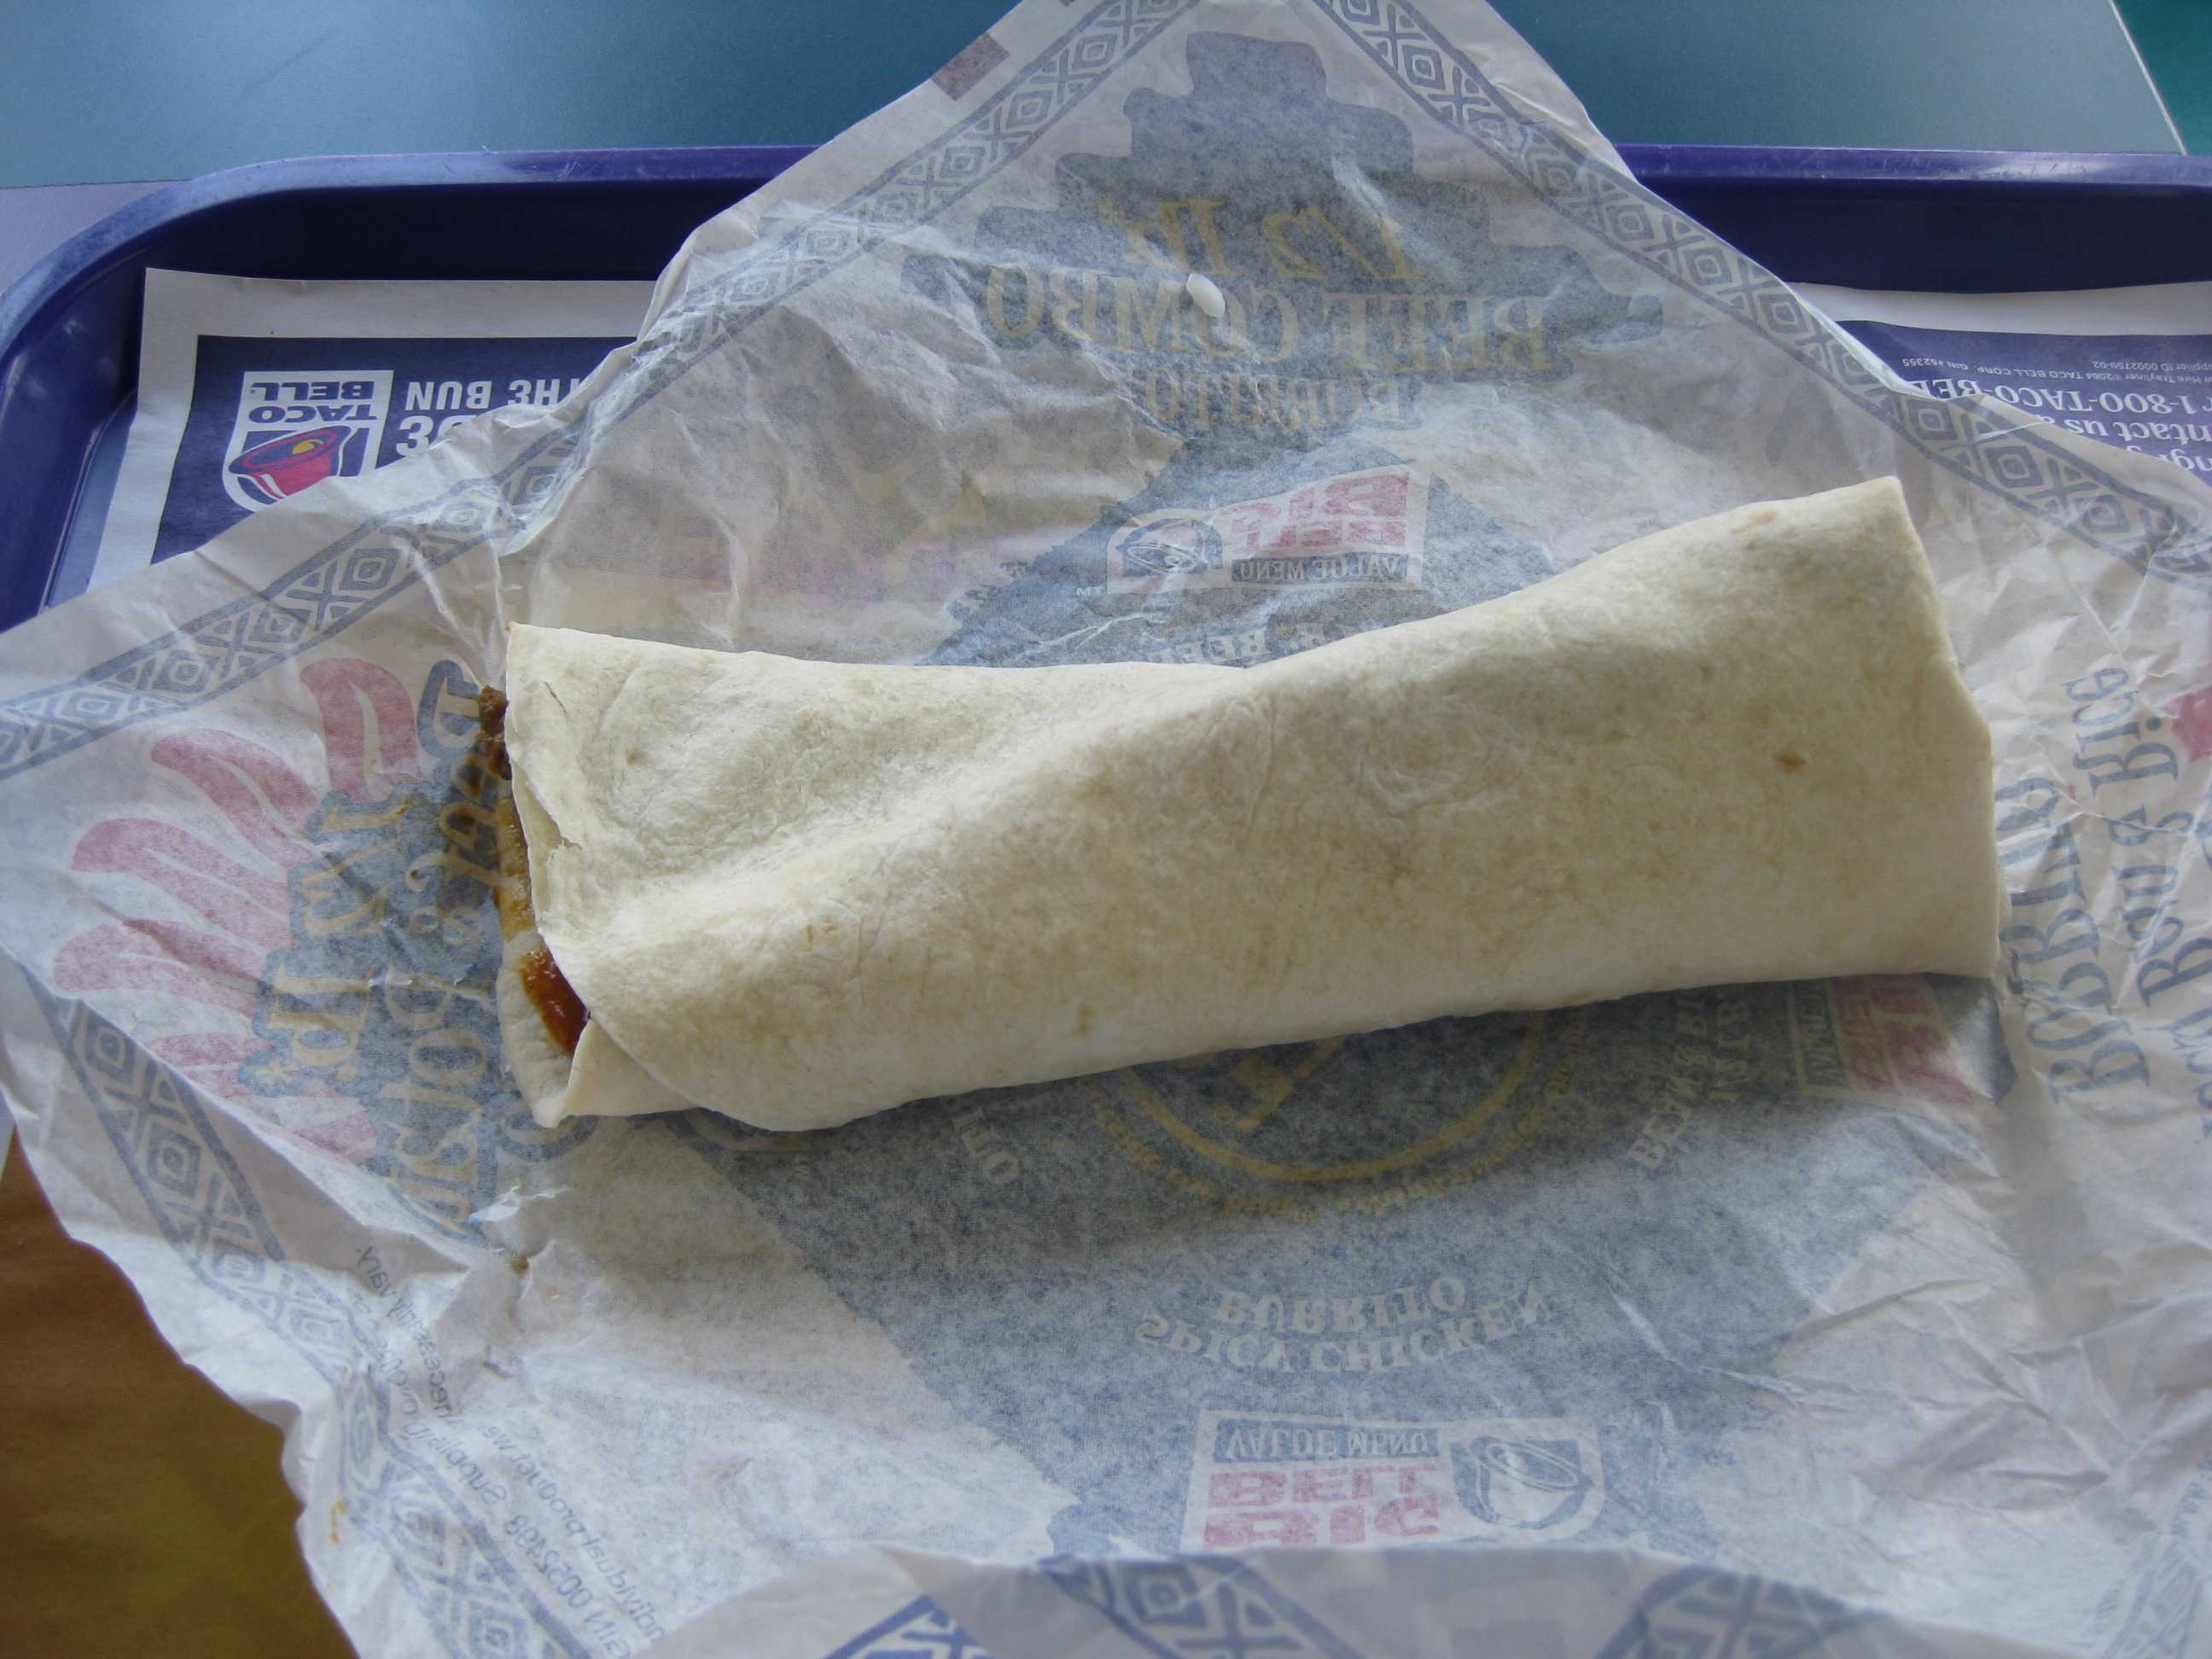burrito: (428, 434, 2103, 1184)
